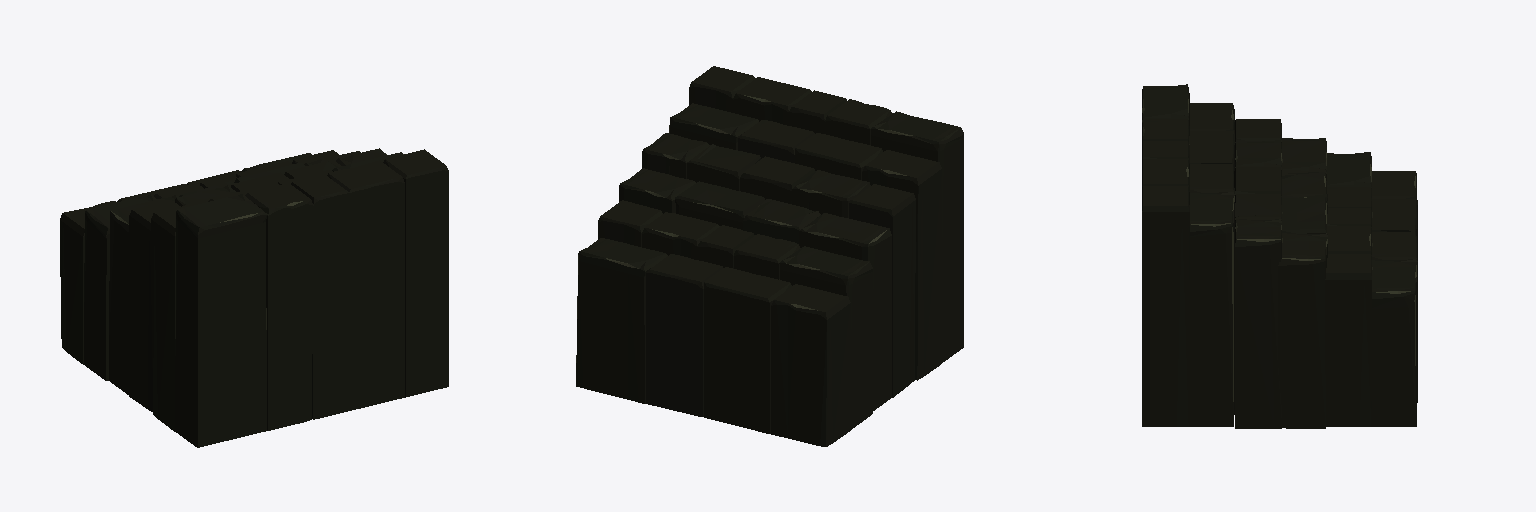
File: Stairs_2.obj
The picture shows the model from 3 angles: view 1: azimuth 30°, elevation 25°; view 2: azimuth 150°, elevation 25°; view 3: azimuth 270°, elevation 25°; orthographic projection.
Parts seen in each view (by area): view 1: Stairs_2; view 2: Stairs_2; view 3: Stairs_2.
Part boxes in pixels (x1,y1,x2,y2): Stairs_2: (60,148,448,447); Stairs_2: (576,66,963,446); Stairs_2: (1142,84,1417,428).
Bounding box in the file's own units: 2.15 × 1.78 × 2.02.